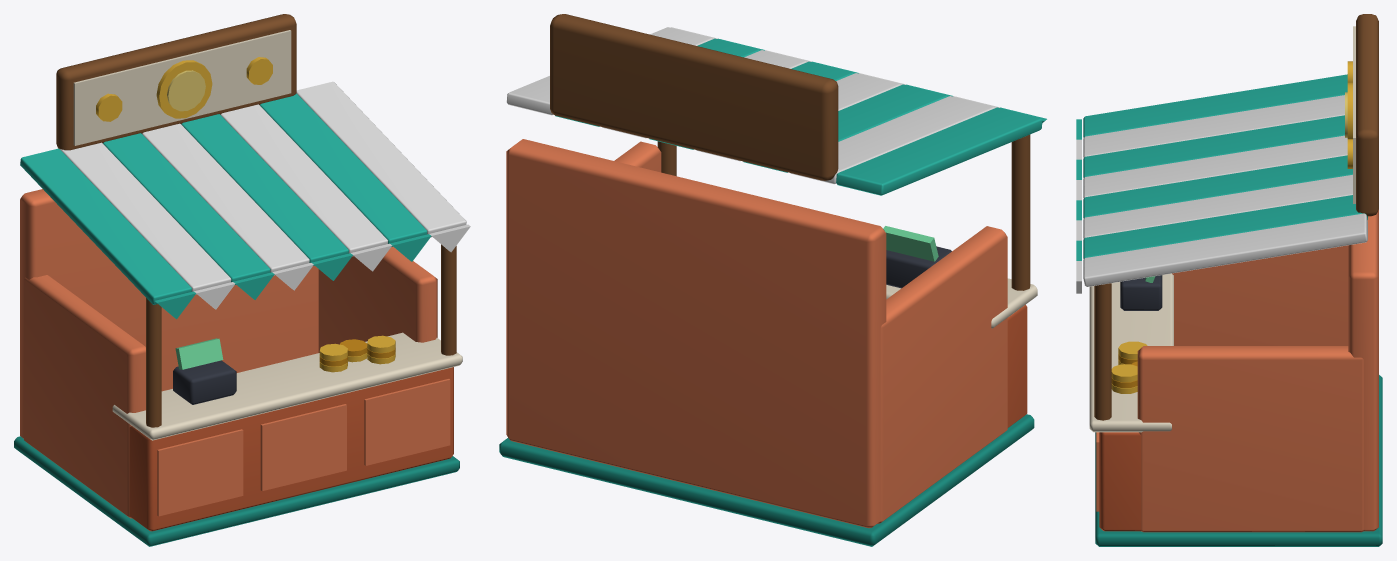
File: tropic-shop.glb
3 renders of one model, left to right at view 1: azimuth 30°, elevation 25°; view 2: azimuth 150°, elevation 25°; view 3: azimuth 270°, elevation 25°, orthographic. The views are drawn at different scales.
Visible parts, largest first — view 1: tropic-shop; view 2: tropic-shop; view 3: tropic-shop.
Boxes of the visible parts, <box> form: tropic-shop: <box>14,14,470,546</box>; tropic-shop: <box>499,14,1046,546</box>; tropic-shop: <box>1076,14,1382,546</box>.
Bounding box in the file's own units: 2 × 2.28 × 1.6.
